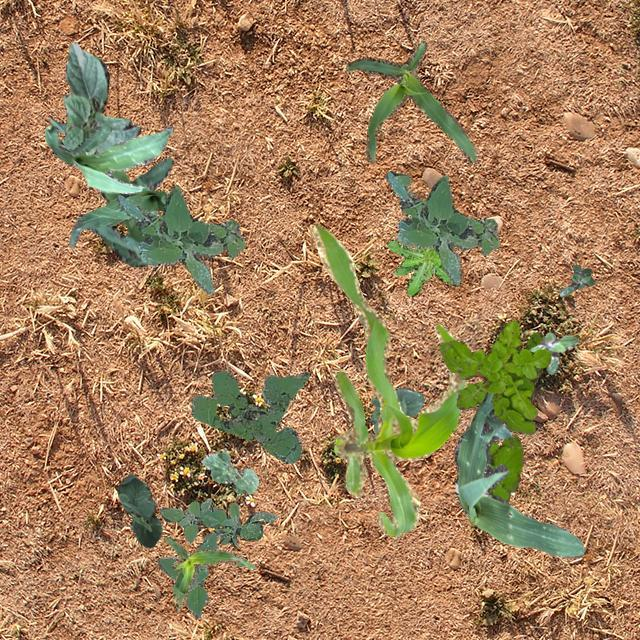crop: (310, 224, 464, 536), (452, 390, 584, 556), (48, 117, 172, 266), (344, 39, 476, 162), (45, 120, 172, 192), (60, 40, 140, 154), (163, 536, 255, 610), (68, 190, 166, 248), (116, 472, 160, 546), (368, 386, 422, 434), (200, 450, 256, 492)
weed: (156, 498, 276, 616), (116, 185, 244, 292), (384, 170, 498, 284), (438, 320, 550, 434), (472, 330, 544, 502), (190, 370, 308, 462), (387, 238, 458, 296), (528, 332, 578, 374), (558, 264, 594, 296)
